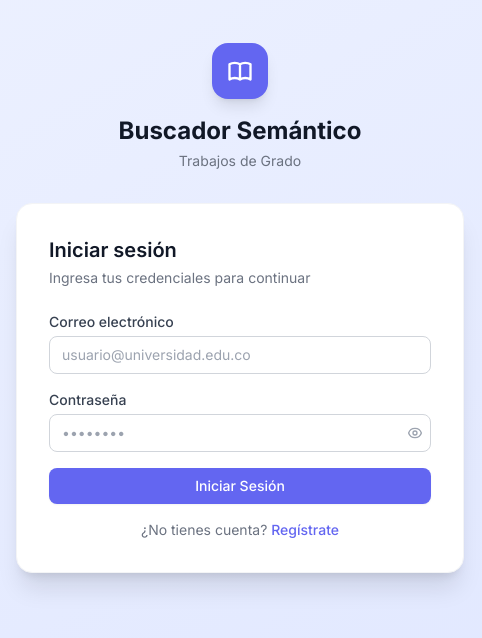
Test: LoginPage › 5. muestra el mensaje del servidor cuando login() falla
This screenshot has width=482, height=638.
Type "test@uni.edu.co" into the field labelled "Correo electrónico".
click(240, 355); type("test@uni.edu.co")  # box [49,336,431,374]
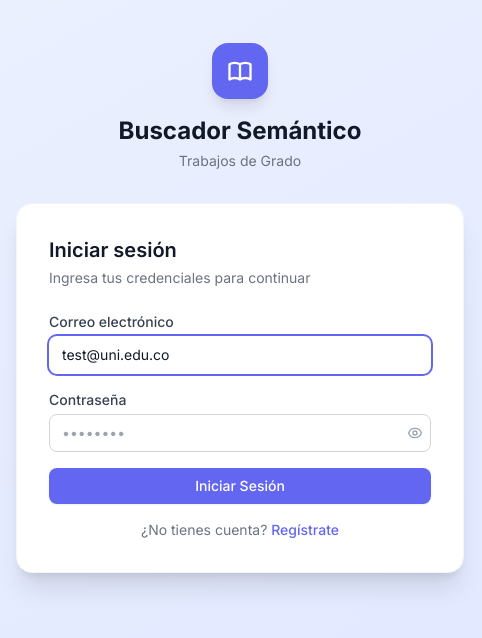
Type "wrongpass" into the password field with placeholder "••••••••".
click(240, 433); type("wrongpass")  # box [49,414,431,452]
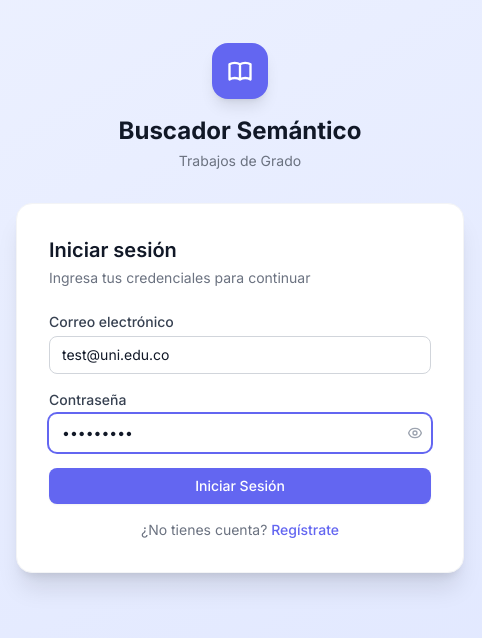
Click the button "Iniciar Sesión".
click(240, 486)  # box [49,468,431,504]
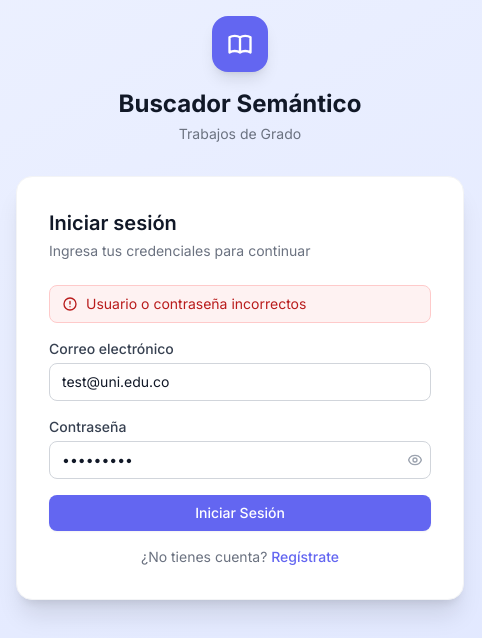
Check: the text "Usuario o contraseña incorrectos" is shown, box [86,294,306,314]
